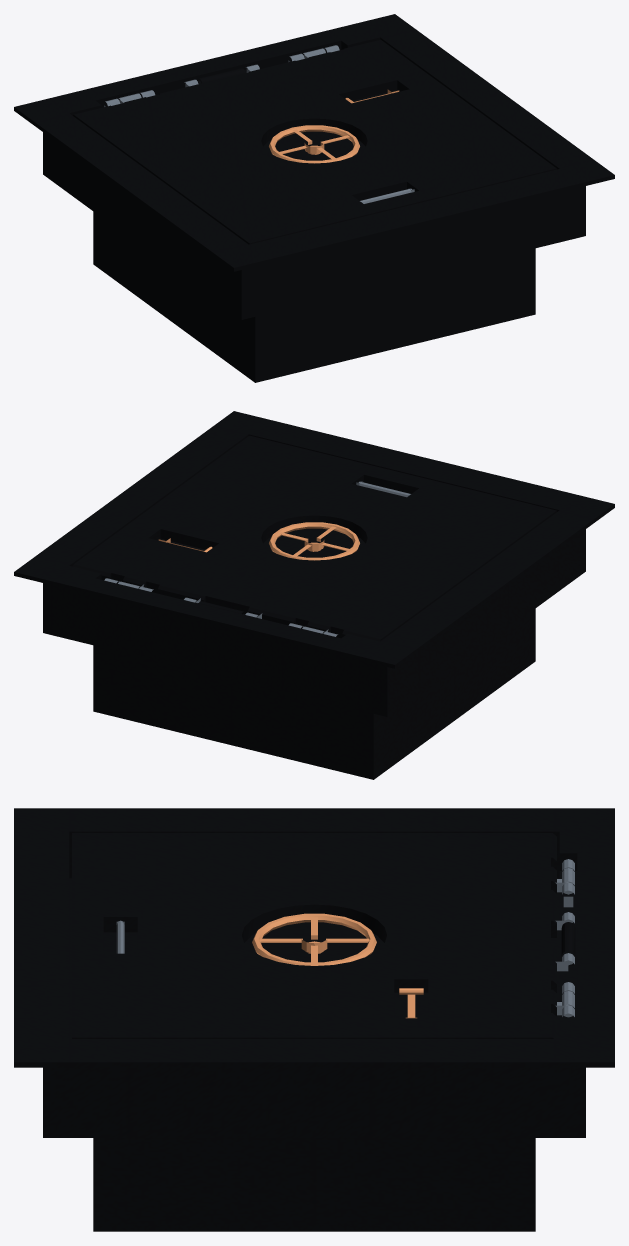
The picture shows the model from 3 angles, top to bottom: view 1: azimuth 30°, elevation 25°; view 2: azimuth 150°, elevation 25°; view 3: azimuth 270°, elevation 25°; orthographic projection. The views are drawn at different scales.
Parts seen in each view (by area): view 1: hatch_frame, hatch_leaf_shell, hatch_OverrideOrange_Handwheel; view 2: hatch_frame, hatch_leaf_shell, hatch_OverrideOrange_Handwheel; view 3: hatch_frame, hatch_leaf_shell, hatch_OverrideOrange_Handwheel, hatch_HingeHeavy_leaf, hatch_HingeHeavy_frame.
Part boxes in pixels (x1,y1,x2,y2): hatch_frame: (14,14,614,382); hatch_leaf_shell: (73,39,556,244); hatch_OverrideOrange_Handwheel: (269,125,359,163); hatch_frame: (14,411,614,779); hatch_leaf_shell: (73,435,556,641); hatch_OverrideOrange_Handwheel: (269,522,359,560); hatch_frame: (14,808,614,1231); hatch_leaf_shell: (72,833,556,1038); hatch_OverrideOrange_Handwheel: (252,913,376,965); hatch_HingeHeavy_leaf: (555,868,574,1015); hatch_HingeHeavy_frame: (562,859,574,1017).
Size of what is drawn, in the model's own units: 1.24 by 0.462 by 1.24.
Materials: 5 (3 with a texture image).
